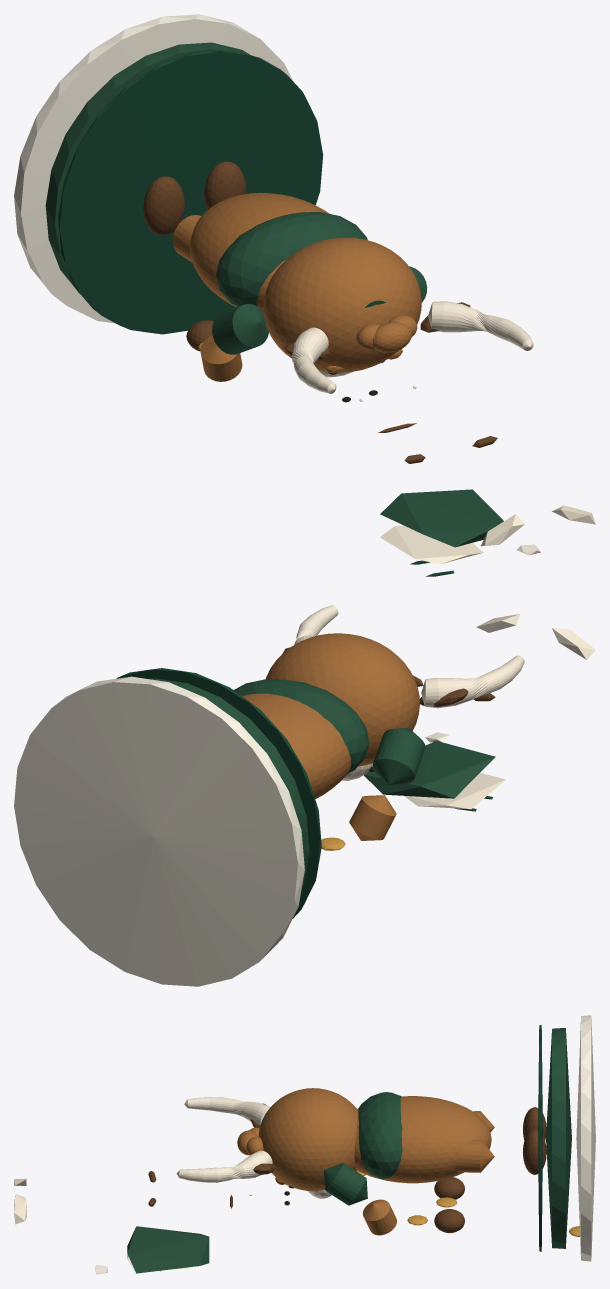
File: kontrakpaham_guardian_bull_premium.glb
The picture shows the model from 3 angles, top to bottom: view 1: azimuth 30°, elevation 25°; view 2: azimuth 150°, elevation 25°; view 3: azimuth 270°, elevation 25°; orthographic projection. The views are drawn at different scales.
Parts seen in each view (by area): view 1: podium_top_bevel, podium_base_ivory, head, shirt_upper, torso, podium_top_green, folder_back, horn_right, left_upper_arm, left_hoof, folder_paper, horn_left (+4 smaller); view 2: podium_base_ivory, head, torso, podium_top_bevel, folder_back, shirt_upper, podium_top_green, left_upper_arm, horn_left, left_forearm, folder_paper, horn_right (+1 smaller); view 3: head, torso, podium_top_green, podium_base_ivory, shirt_upper, folder_back, horn_right, right_upper_arm, horn_left, podium_top_bevel, right_leg, right_forearm (+4 smaller).
Boxes of the visible parts, x1,y1,x2,y2 form: podium_top_bevel: (58,50,323,334); podium_base_ivory: (14,14,292,323); head: (263,237,421,372); shirt_upper: (216,212,367,306); torso: (189,192,329,311); podium_top_green: (45,42,250,293); folder_back: (380,489,503,547); horn_right: (428,301,533,350); left_upper_arm: (212,304,268,354); left_hoof: (143,176,184,235); folder_paper: (380,525,483,564); horn_left: (292,327,336,393); podium_base_ivory: (14,676,304,986); head: (265,633,419,766); torso: (242,693,350,798); podium_top_bevel: (116,668,321,918); folder_back: (363,741,495,798); shirt_upper: (234,679,369,773); podium_top_green: (149,678,309,888); left_upper_arm: (372,728,425,784); horn_left: (421,655,524,708); left_forearm: (349,795,396,840); folder_paper: (404,772,505,809); horn_right: (294,605,338,644); head: (258,1088,357,1191); torso: (354,1096,491,1183); podium_top_green: (546,1028,571,1248); podium_base_ivory: (576,1015,595,1261); shirt_upper: (358,1092,402,1178); folder_back: (127,1226,209,1273); horn_right: (176,1150,272,1182); right_upper_arm: (324,1163,367,1205); horn_left: (184,1097,270,1124); podium_top_bevel: (538,1025,542,1251); right_leg: (455,1139,494,1172); right_forearm: (362,1199,396,1235).
Bounding box in the file's own units: 1.75 × 1.94 × 4.13.
